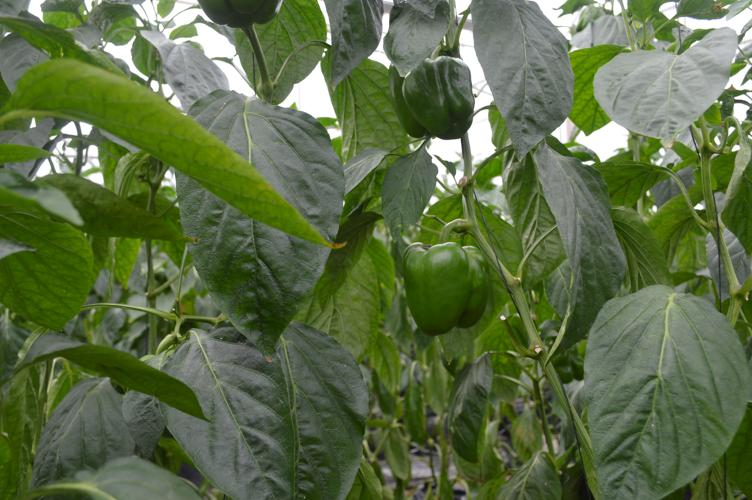BellPepper: (380, 48, 486, 152), (392, 237, 505, 334)
